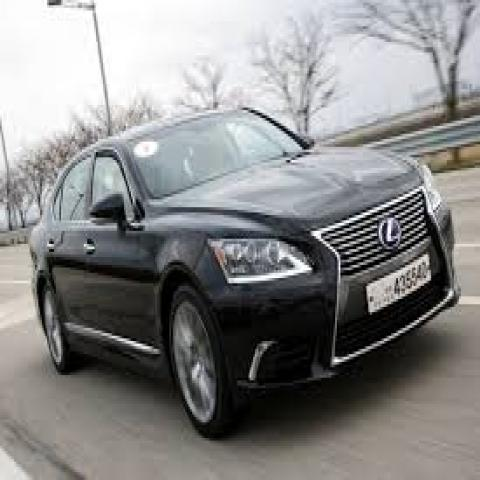LP: (359, 249, 439, 321)
